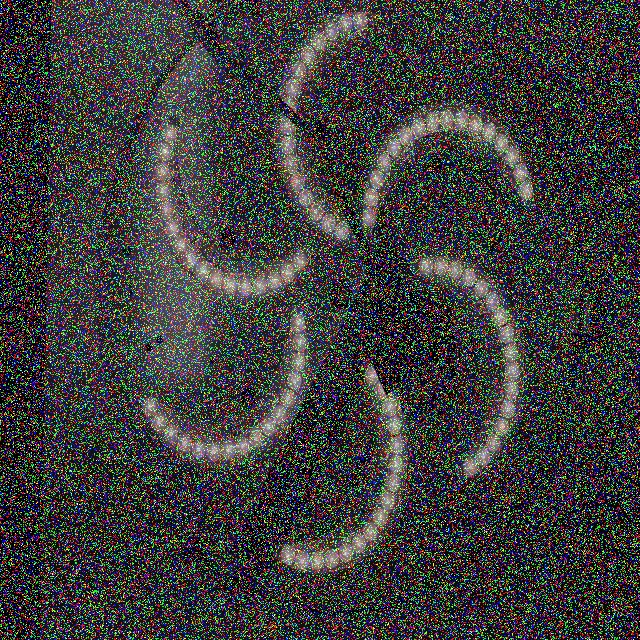led: (410, 260, 530, 480)
